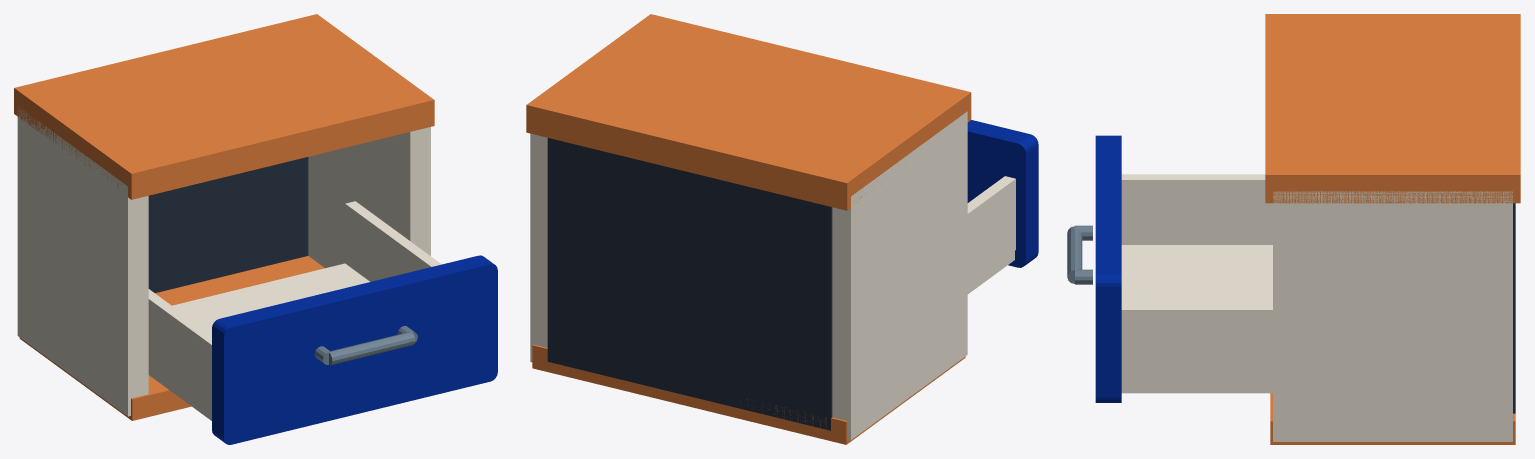
The model's file is drawer.glb.
The picture shows the model from 3 angles, left to right: view 1: azimuth 30°, elevation 25°; view 2: azimuth 150°, elevation 25°; view 3: azimuth 270°, elevation 25°; orthographic projection. The views are drawn at different scales.
Visible parts, largest first — view 1: top, drawer front, side -0.68, back, side 0.68, tray, tray side -0.59, tray side 0.59, bottom, drawer grip1; view 2: back, top, side -0.68, drawer front, bottom, tray side -0.59, side 0.68; view 3: side 0.68, top, tray side 0.59, tray, tray side -0.59, drawer front, bottom, drawer grip1, back.
Boxes of the visible parts, x1,y1,x2,y2 form: top: (14, 14, 434, 199); drawer front: (212, 255, 497, 444); side -0.68: (17, 106, 148, 416); back: (148, 157, 308, 292); side 0.68: (308, 127, 430, 268); tray: (148, 263, 369, 420); tray side -0.59: (148, 289, 211, 411); tray side 0.59: (345, 201, 441, 281); bottom: (19, 256, 324, 420); drawer grip1: (329, 332, 415, 365); back: (547, 138, 832, 430); top: (526, 14, 971, 210); side -0.68: (832, 111, 967, 439); drawer front: (967, 120, 1038, 267); bottom: (532, 344, 965, 444); tray side -0.59: (967, 176, 1015, 284); side 0.68: (530, 133, 547, 362); side 0.68: (1273, 191, 1512, 441); top: (1265, 14, 1520, 203); tray side 0.59: (1121, 304, 1272, 383); tray: (1121, 245, 1272, 393); tray side -0.59: (1121, 174, 1272, 244); drawer front: (1095, 135, 1121, 402); bottom: (1270, 393, 1515, 444); drawer grip1: (1067, 226, 1082, 283); back: (1513, 203, 1515, 413).
Bounding box in the file's own units: 1.46 × 1.15 × 1.74.
